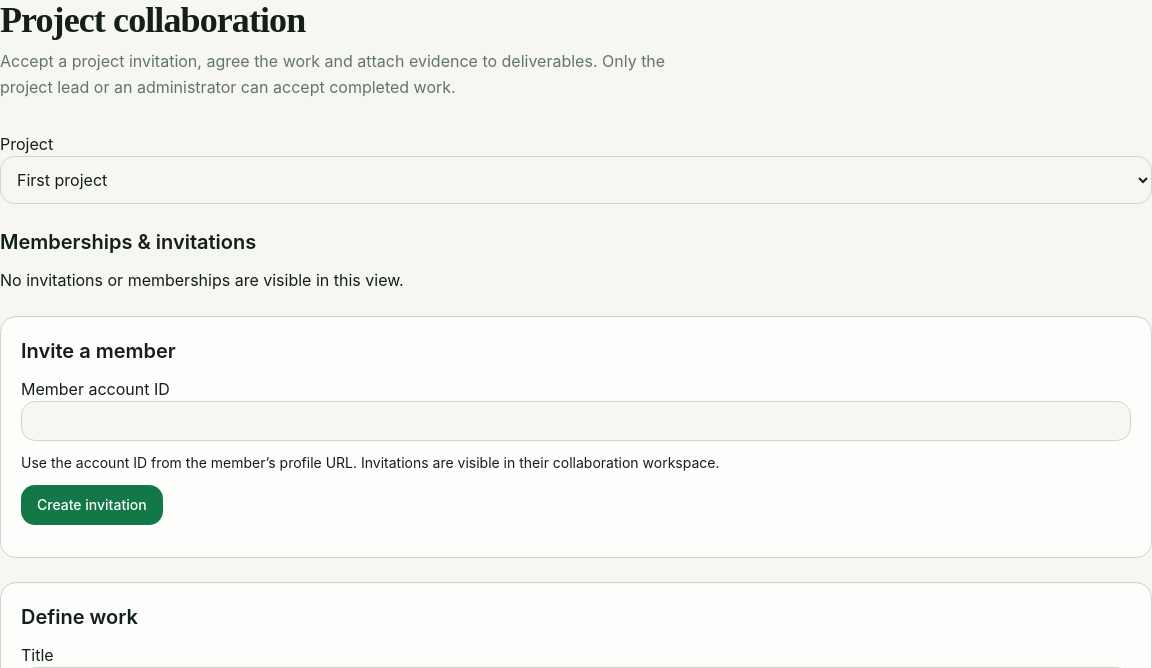
Test: collaboration invitation feedback › reports a confirmed invitation in the project that submitted it
In the field labelled "Member account ID": [576, 421] box [21, 401, 1131, 441], type "10000000-0000-4000-8000-000000000092"
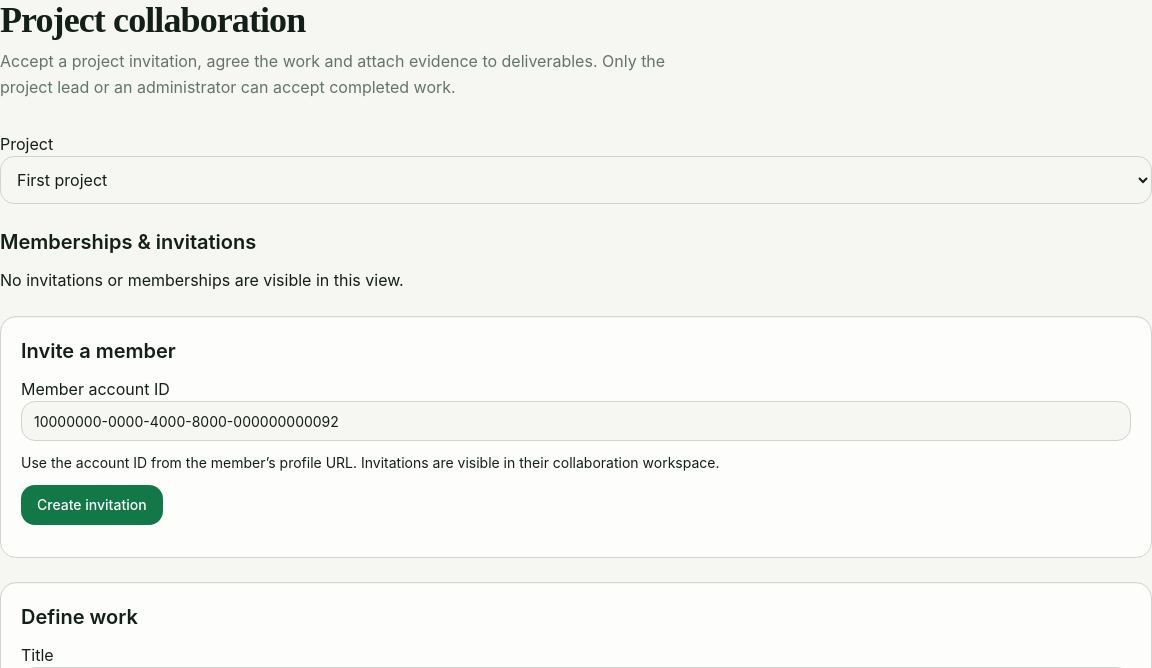
Click the button "Create invitation": [92, 505] box [21, 485, 163, 525]
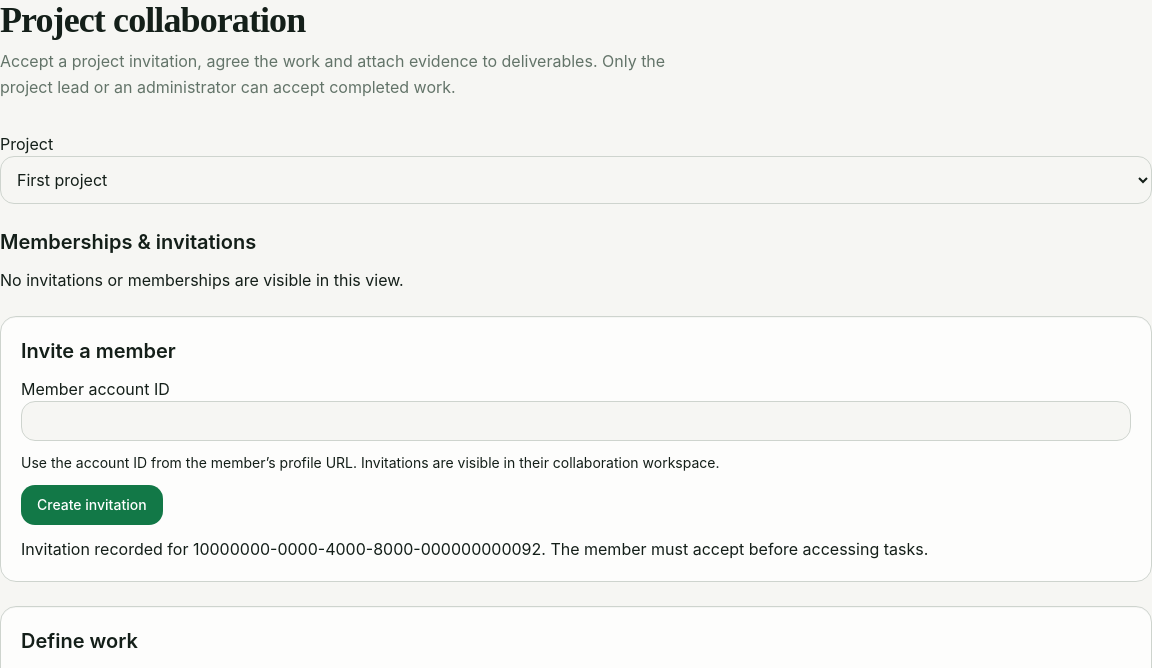
Expected: the text "Invitation recorded" is shown, [21, 539, 928, 559]
Expected: the field labelled "Member account ID" is empty, [21, 401, 1131, 441]
